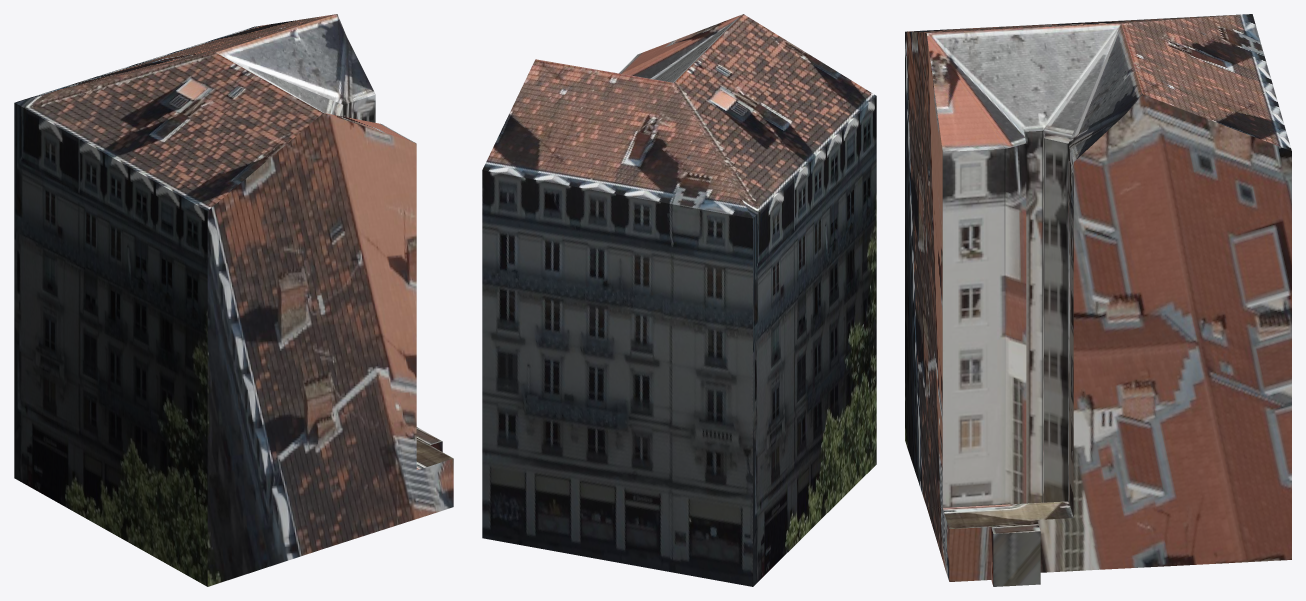
The picture shows the model from 3 angles, left to right: view 1: azimuth 30°, elevation 25°; view 2: azimuth 150°, elevation 25°; view 3: azimuth 270°, elevation 25°; orthographic projection. The views are drawn at different scales.
Parts seen in each view (by area): view 1: Z_UP; view 2: Z_UP; view 3: Z_UP.
Boxes of the visible parts, box(x1,y1,x2,y2) form: Z_UP: box(14, 14, 453, 586); Z_UP: box(482, 14, 876, 586); Z_UP: box(905, 14, 1291, 586).
Size of the model in its own units: 20.64 by 27.83 by 20.57.
2 materials, 1 textured.
